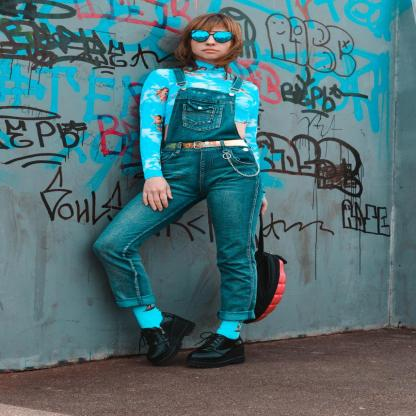dress: (102, 59, 274, 324)
